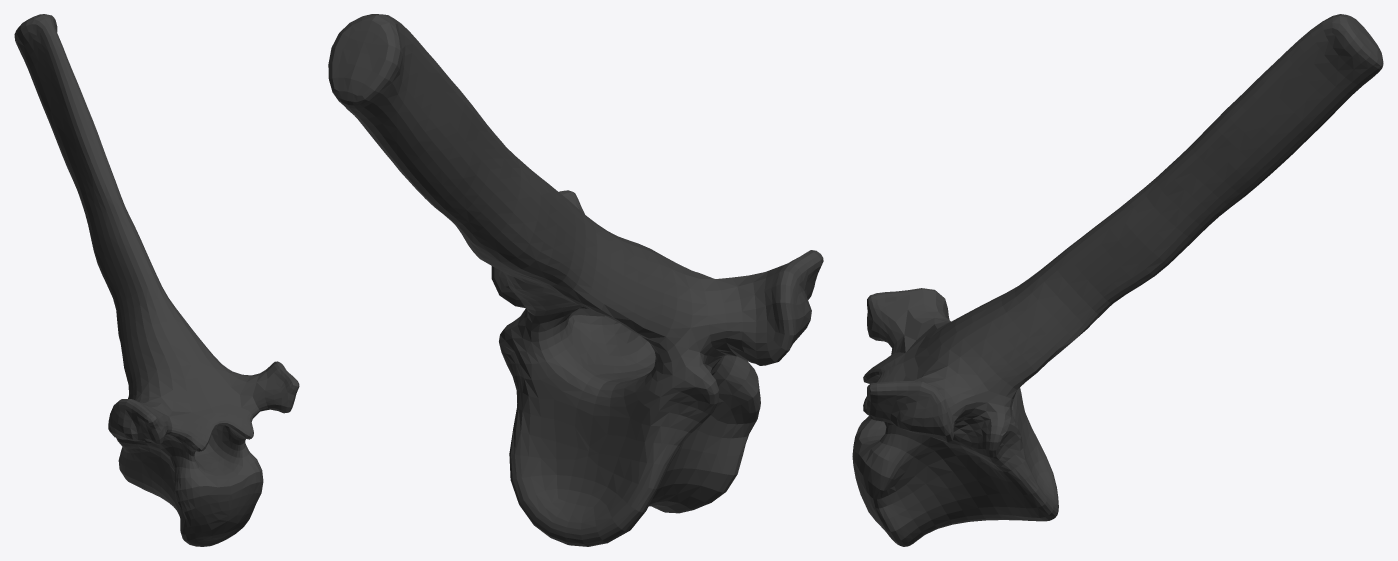
The picture shows the model from 3 angles, left to right: view 1: azimuth 30°, elevation 25°; view 2: azimuth 150°, elevation 25°; view 3: azimuth 270°, elevation 25°; orthographic projection. The views are drawn at different scales.
Visible parts, largest first — view 1: b_T7_LO; view 2: b_T7_LO; view 3: b_T7_LO.
Boxes of the visible parts, bbox=[...] form: b_T7_LO: bbox=[14, 14, 299, 546]; b_T7_LO: bbox=[328, 14, 823, 546]; b_T7_LO: bbox=[852, 14, 1383, 546].
Size of the model in its own units: 0.000895 by 0.00201 by 0.00184.
Materials: 1 (1 with a texture image).
